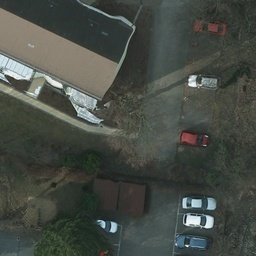car: (181, 211, 215, 230), (193, 19, 227, 36), (186, 73, 220, 90), (173, 233, 208, 249), (177, 130, 208, 147), (183, 196, 218, 211), (96, 221, 117, 233)
